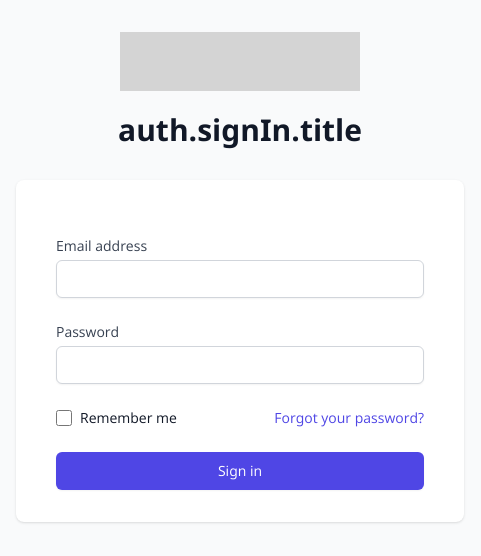
Test: Sign in › should not display error when value is valid
Type "demo@mail.com" into the field labelled "Email address" at (240, 279), box [56,260,424,298]
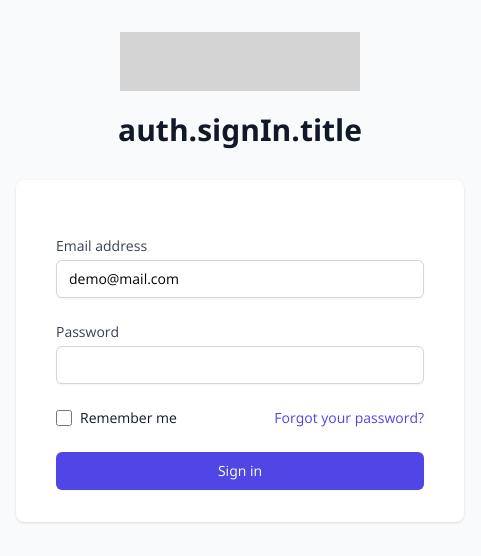
Type "123456" into the password field labelled "Password" at (240, 365), box [56,346,424,384]
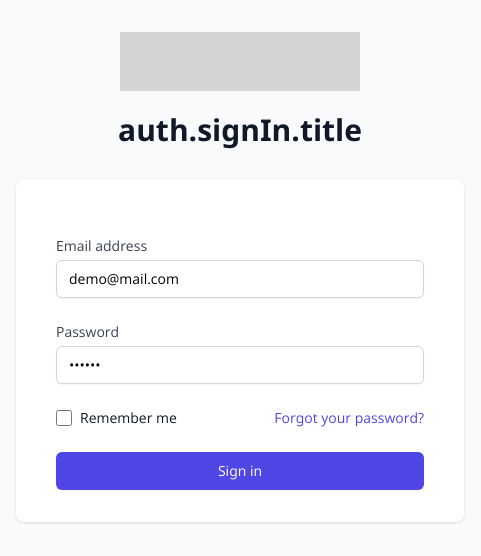
Submit the form from the button "Sign in", box [56,452,424,490]
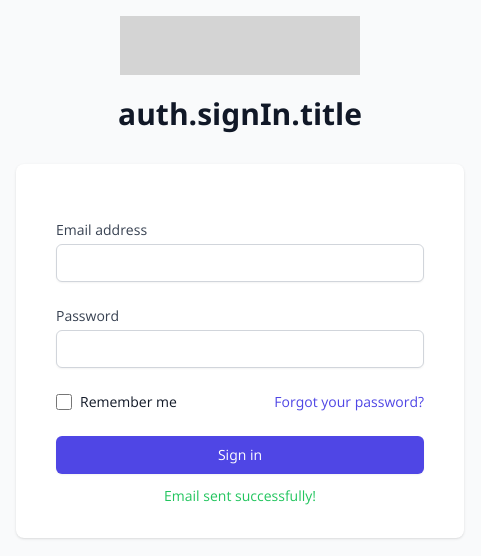
Now the field labelled "Email address" is empty, box [56,244,424,282]
Now the password field labelled "Password" is empty, box [56,330,424,368]
Now the text "Email sent successfully!" is shown, box [164,486,316,505]
